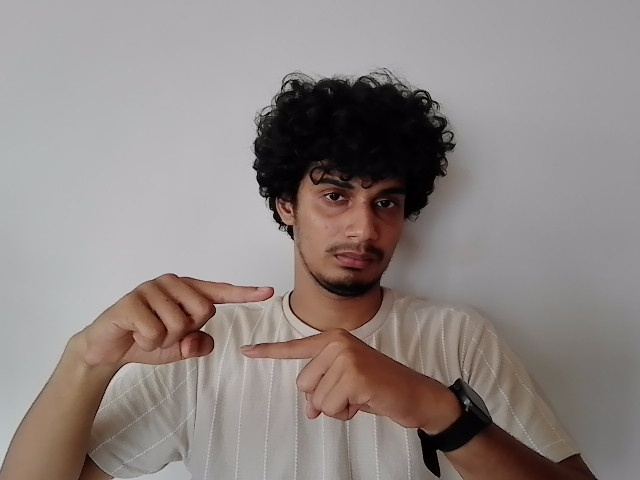about: (73, 271, 419, 426)
